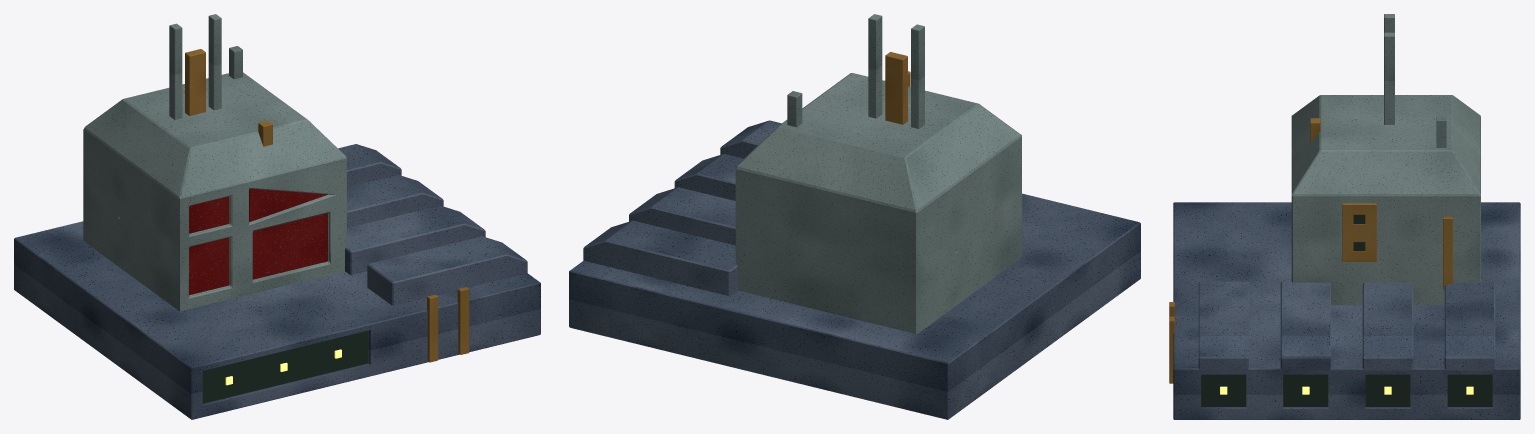
3 renders of one model, left to right at view 1: azimuth 30°, elevation 25°; view 2: azimuth 150°, elevation 25°; view 3: azimuth 270°, elevation 25°, orthographic. The views are drawn at different scales.
Parts seen in each view (by area): view 1: Superior Unit low broad grounded base, Superior Unit pale angular block and sloping shoulder, Superior Unit four split red front fields, Superior Unit low base channel 0, Superior Unit seven dark seated backings, Superior Unit low base channel 1, Superior Unit low base channel 2, Superior Unit six attached brass fittings, Superior Unit two pale guides and short stub, Superior Unit low base channel 3; view 2: Superior Unit pale angular block and sloping shoulder, Superior Unit low broad grounded base, Superior Unit low base channel 3, Superior Unit low base channel 2, Superior Unit two pale guides and short stub, Superior Unit low base channel 1, Superior Unit six attached brass fittings, Superior Unit low base channel 0; view 3: Superior Unit low broad grounded base, Superior Unit pale angular block and sloping shoulder, Superior Unit seven dark seated backings, Superior Unit low base channel 2, Superior Unit low base channel 3, Superior Unit low base channel 0, Superior Unit low base channel 1, Superior Unit six attached brass fittings, Superior Unit two pale guides and short stub.
Boxes of the visible parts, x1,y1,x2,y2 form: Superior Unit low broad grounded base: (14, 221, 540, 419); Superior Unit pale angular block and sloping shoulder: (83, 72, 346, 311); Superior Unit four split red front fields: (189, 188, 327, 295); Superior Unit low base channel 0: (367, 236, 527, 305); Superior Unit seven dark seated backings: (202, 330, 368, 403); Superior Unit low base channel 1: (345, 205, 485, 274); Superior Unit low base channel 2: (347, 174, 443, 227); Superior Unit six attached brass fittings: (185, 49, 469, 362); Superior Unit two pale guides and short stub: (169, 14, 242, 119); Superior Unit low base channel 3: (338, 144, 401, 186); Superior Unit pale angular block and sloping shoulder: (735, 73, 1022, 333); Superior Unit low broad grounded base: (569, 193, 1140, 419); Superior Unit low base channel 3: (583, 220, 737, 295); Superior Unit low base channel 2: (629, 187, 735, 245); Superior Unit two pale guides and short stub: (787, 14, 924, 128); Superior Unit low base channel 1: (674, 154, 743, 200); Superior Unit six attached brass fittings: (885, 52, 910, 124); Superior Unit low base channel 0: (720, 120, 781, 158); Superior Unit low broad grounded base: (1173, 202, 1520, 419); Superior Unit pale angular block and sloping shoulder: (1291, 95, 1480, 305); Superior Unit seven dark seated backings: (1201, 214, 1492, 406); Superior Unit low base channel 2: (1362, 282, 1413, 370); Superior Unit low base channel 3: (1444, 281, 1495, 370); Superior Unit low base channel 0: (1198, 281, 1248, 370); Superior Unit low base channel 1: (1280, 281, 1330, 370); Superior Unit six attached brass fittings: (1169, 118, 1452, 383); Superior Unit two pale guides and short stub: (1384, 14, 1446, 147).
Bounding box in the file's own units: 2.5 × 1.98 × 2.22.
Materials: 6 (4 with a texture image).
